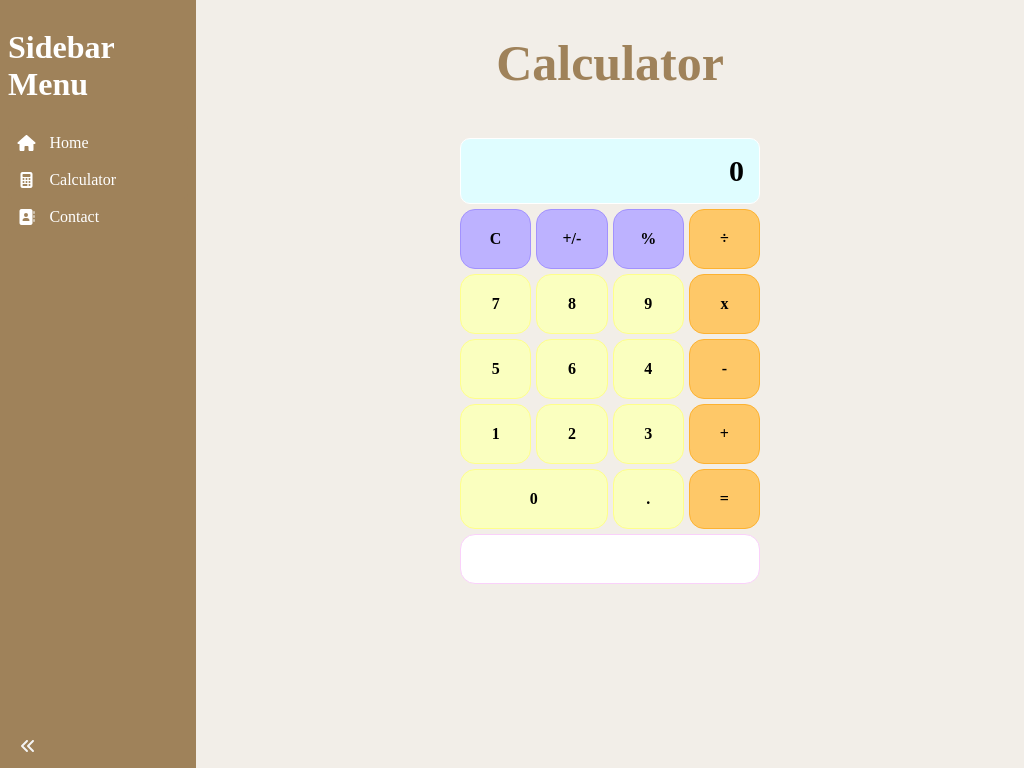
it: Calculator Tests › C button clears text
This screenshot has width=1024, height=768.
expect the text with id "display" reads "0": met, box [460,138,760,204]
Click the button "2": point(572, 434) [536,404,607,464]
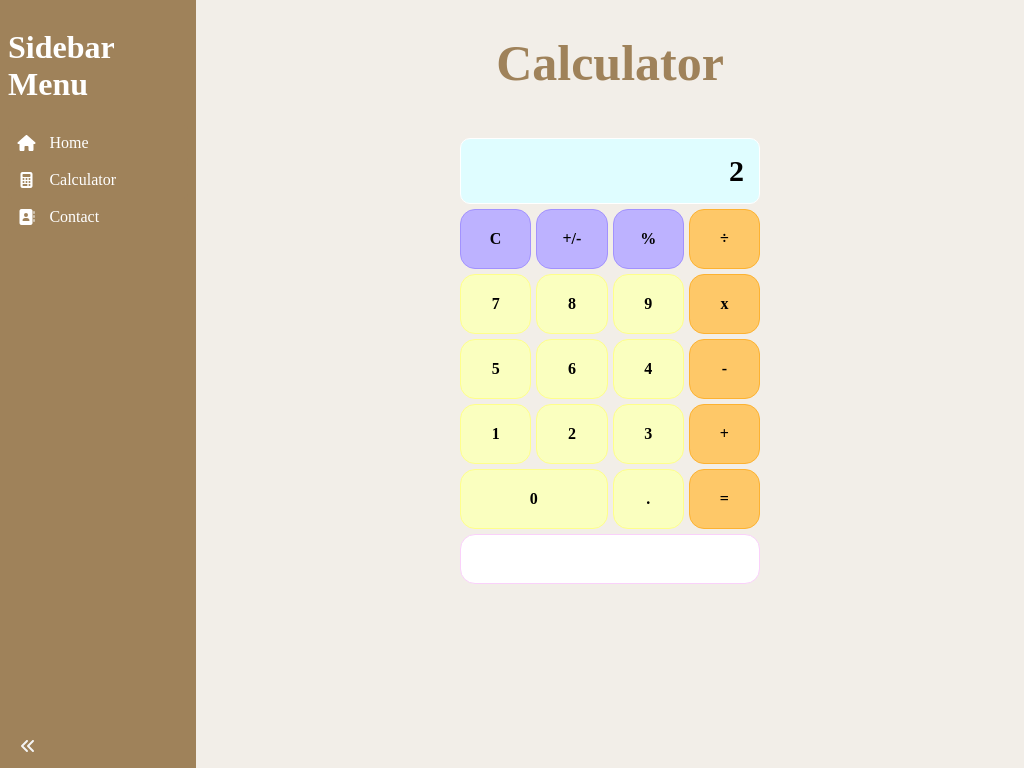
expect the text with id "display" reads "2": met, box [460,138,760,204]
Click the button "C": point(496, 239) [460,209,531,269]
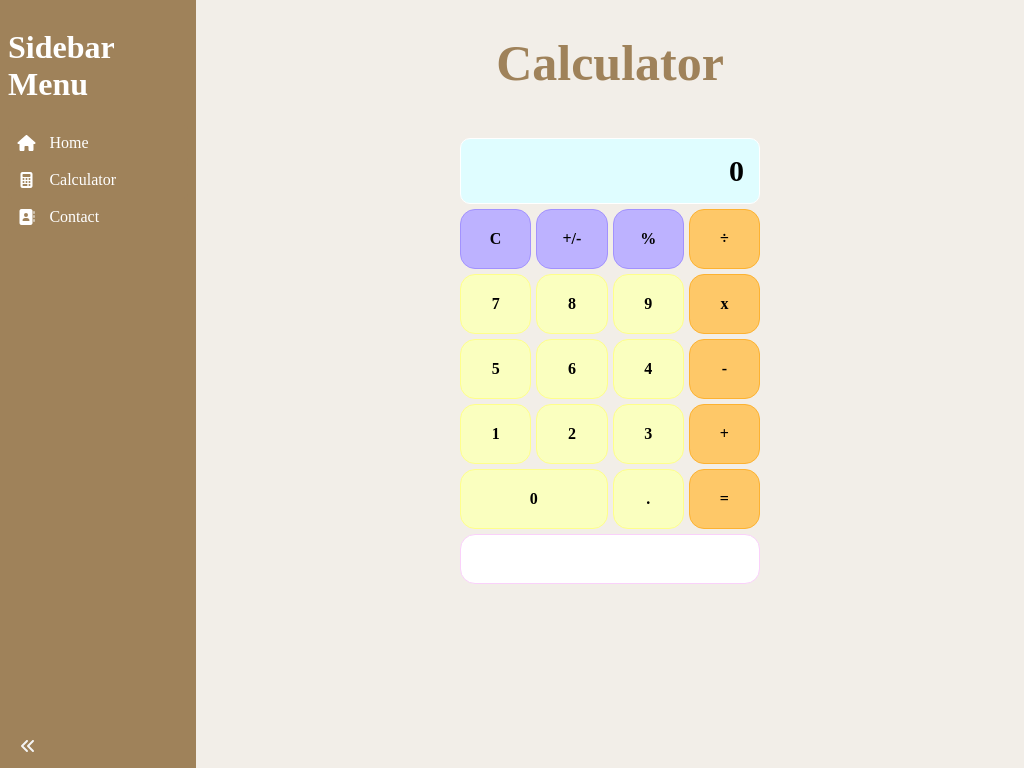
expect the text with id "display" reads "0": met, box [460,138,760,204]
